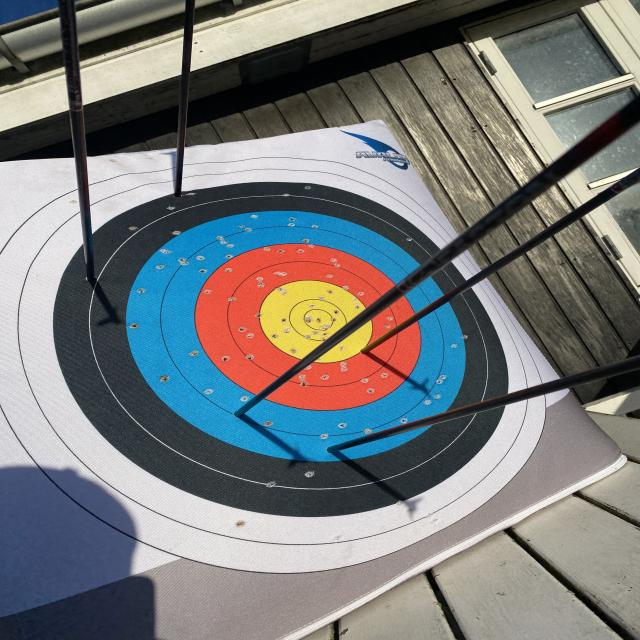Arrow_Black: (56, 250, 122, 292), (161, 180, 202, 206)
Arrow_Blue: (226, 396, 260, 433), (316, 436, 353, 466)
Arrow_Red: (355, 337, 386, 371)
